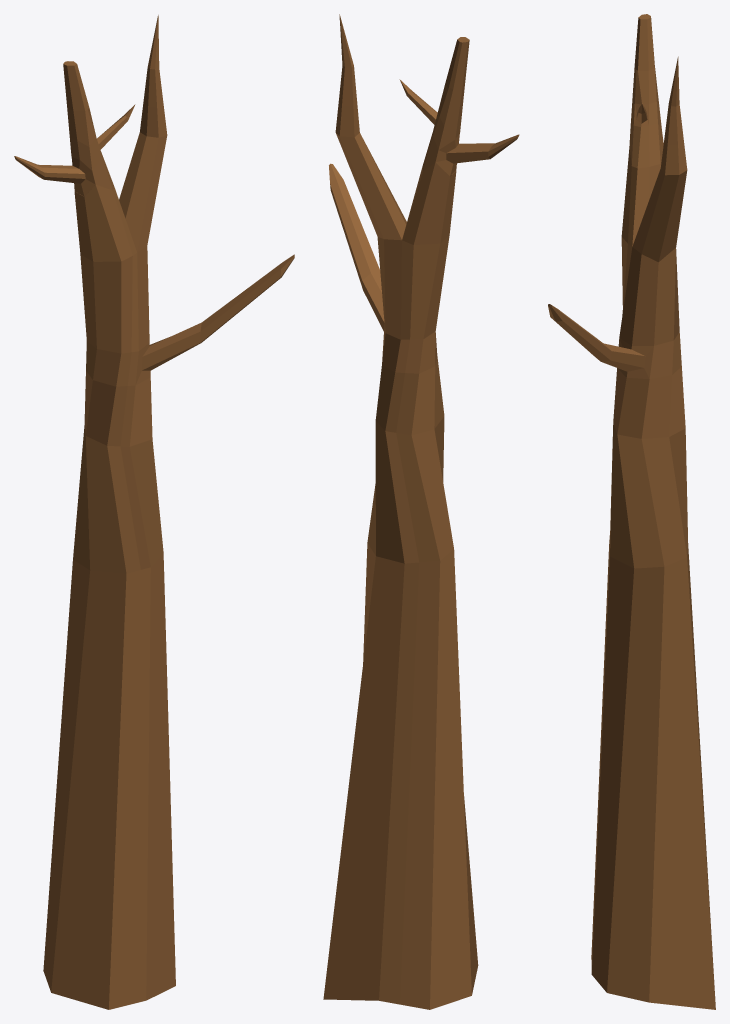
Rendered from ToterBaum.fbx.
3 views of the same model, side by side, from view 1: azimuth 30°, elevation 25°; view 2: azimuth 150°, elevation 25°; view 3: azimuth 270°, elevation 25° (orthographic). The views are drawn at different scales.
Parts seen in each view (by area): view 1: Laubbaum_kaputt; view 2: Laubbaum_kaputt; view 3: Laubbaum_kaputt.
Boxes of the visible parts, x1=… form: Laubbaum_kaputt: x1=14, y1=15, x2=294, y2=1009; Laubbaum_kaputt: x1=323, y1=14, x2=519, y2=1009; Laubbaum_kaputt: x1=548, y1=14, x2=715, y2=1009.
Bounding box in the file's own units: 497 × 1935 × 308.
